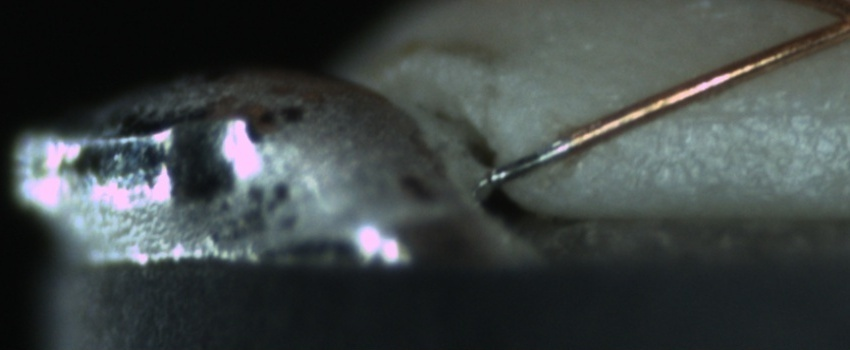CL: (811, 2, 849, 42)
DL: (671, 81, 850, 146)
TS: (485, 136, 574, 187)
TTCW: (485, 127, 590, 186)
